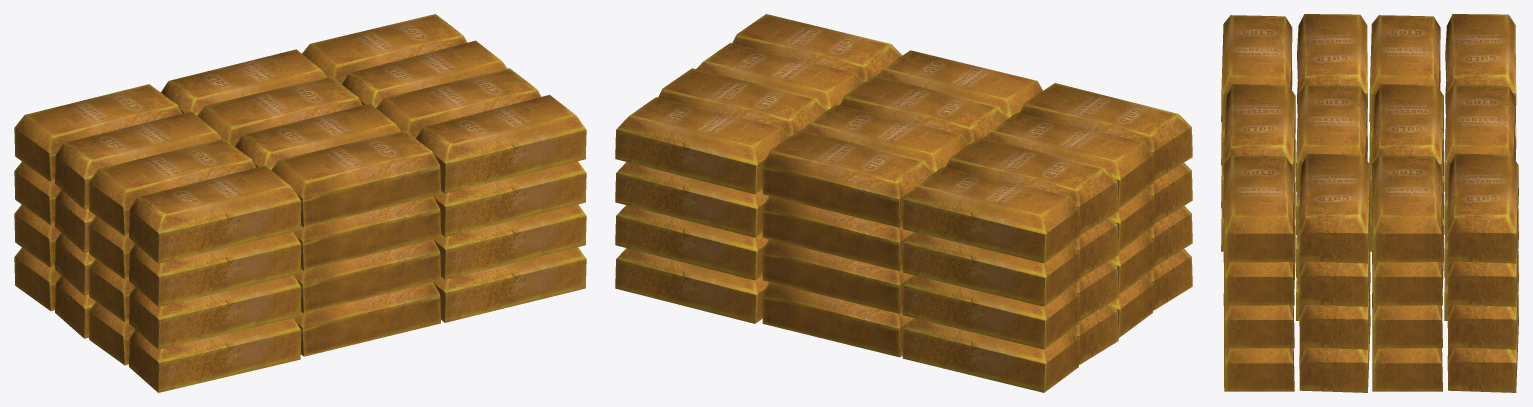
Rendered from Gold_Ingots.FBX.
3 renders of one model, left to right at view 1: azimuth 30°, elevation 25°; view 2: azimuth 150°, elevation 25°; view 3: azimuth 270°, elevation 25°, orthographic.
Visible parts, largest first — view 1: gold_bar_36, gold_bar_41, gold_bar_27, gold_bar_05, gold_bar_29, gold_bar_23, gold_bar_39, gold_bar_32, gold_bar_44, gold_bar_03, gold_bar_18, gold_bar_24 (+18 smaller); view 2: gold_bar_39, gold_bar_37, gold_bar_40, gold_bar_06, gold_bar_30, gold_bar_15, gold_bar_24, gold_bar_36, gold_bar_42, gold_bar_11, gold_bar_17, gold_bar_09 (+18 smaller); view 3: gold_bar_45, gold_bar_40, gold_bar_47, gold_bar_41, gold_bar_27, gold_bar_39, gold_bar_32, gold_bar_38, gold_bar_24, gold_bar_37, gold_bar_36, gold_bar_35 (+12 smaller).
Part boxes in pixels (left/top/right/bottom): gold_bar_36: left=129, top=165, right=301, bottom=263; gold_bar_41: left=415, top=94, right=586, bottom=193; gold_bar_27: left=271, top=130, right=440, bottom=227; gold_bar_05: left=129, top=318, right=301, bottom=392; gold_bar_29: left=129, top=232, right=301, bottom=306; gold_bar_23: left=129, top=275, right=301, bottom=349; gold_bar_39: left=14, top=84, right=182, bottom=181; gold_bar_32: left=88, top=138, right=256, bottom=236; gold_bar_44: left=433, top=161, right=586, bottom=236; gold_bar_03: left=433, top=247, right=586, bottom=322; gold_bar_18: left=433, top=204, right=586, bottom=279; gold_bar_24: left=55, top=111, right=221, bottom=209; gold_bar_39: left=902, top=167, right=1078, bottom=263; gold_bar_37: left=762, top=130, right=935, bottom=227; gold_bar_40: left=615, top=97, right=788, bottom=194; gold_bar_06: left=902, top=318, right=1078, bottom=392; gold_bar_30: left=902, top=232, right=1078, bottom=306; gold_bar_15: left=902, top=275, right=1078, bottom=349; gold_bar_24: left=945, top=137, right=1118, bottom=235; gold_bar_36: left=1020, top=83, right=1192, bottom=180; gold_bar_42: left=615, top=162, right=768, bottom=237; gold_bar_11: left=615, top=248, right=768, bottom=323; gold_bar_17: left=615, top=205, right=768, bottom=280; gold_bar_09: left=762, top=282, right=913, bottom=357; gold_bar_45: left=1299, top=153, right=1370, bottom=263; gold_bar_40: left=1447, top=153, right=1518, bottom=263; gold_bar_47: left=1372, top=155, right=1442, bottom=262; gold_bar_41: left=1223, top=155, right=1294, bottom=262; gold_bar_27: left=1224, top=84, right=1295, bottom=191; gold_bar_39: left=1445, top=14, right=1516, bottom=123; gold_bar_32: left=1297, top=14, right=1367, bottom=123; gold_bar_38: left=1373, top=84, right=1443, bottom=192; gold_bar_24: left=1369, top=15, right=1440, bottom=121; gold_bar_37: left=1444, top=84, right=1515, bottom=191; gold_bar_36: left=1221, top=15, right=1292, bottom=121; gold_bar_35: left=1296, top=84, right=1366, bottom=191.
Size of the model in its own units: 92.42 by 35.36 by 55.29.
